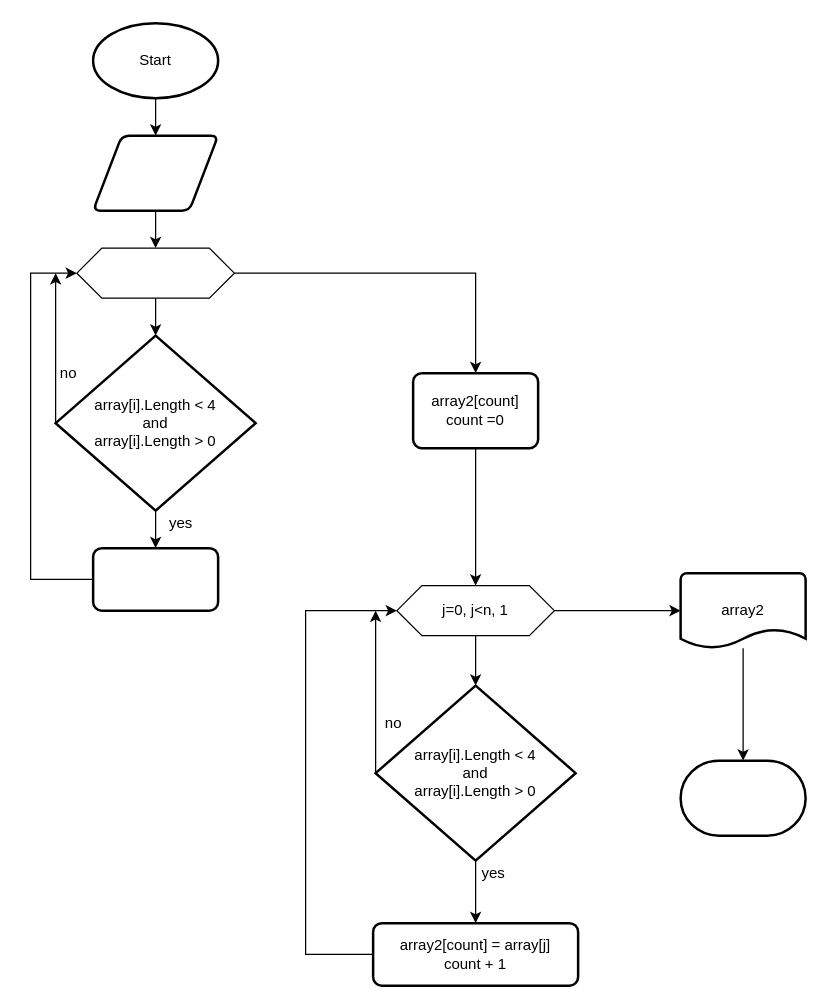
This 829x1008 diagram has some shape labels left out. Each missing label, with the centre of its shape:
count + 1: the point at 155,578
end: the point at 742,797
i=0, i<n, 1: the point at 155,272
n array[n] count = 0: the point at 155,172
